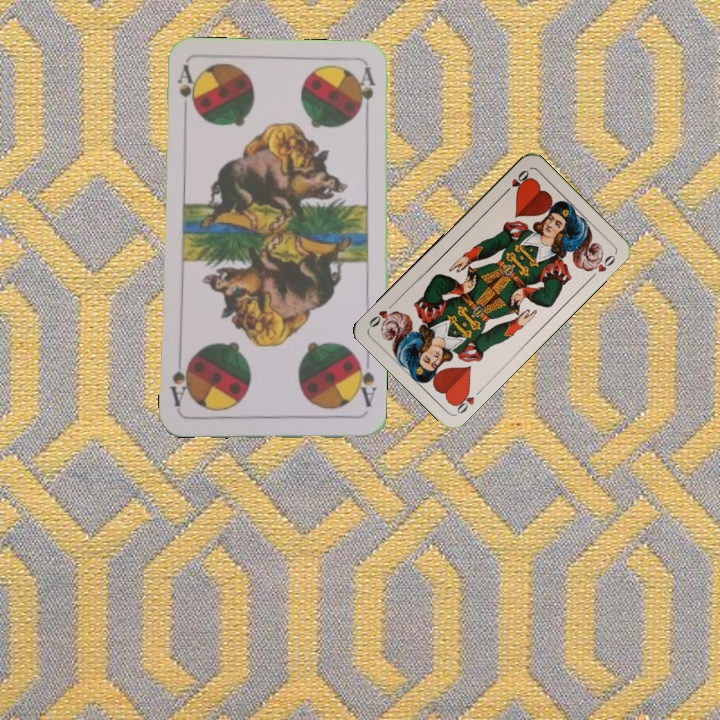HO: (499, 166, 532, 197), (449, 385, 477, 417)
SA: (173, 62, 199, 121), (351, 355, 379, 409)
